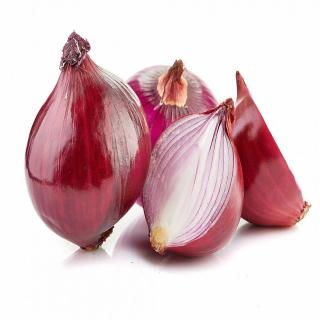Bawang Merah: (25, 31, 153, 253), (143, 98, 246, 259), (232, 71, 312, 229), (126, 59, 221, 153)
